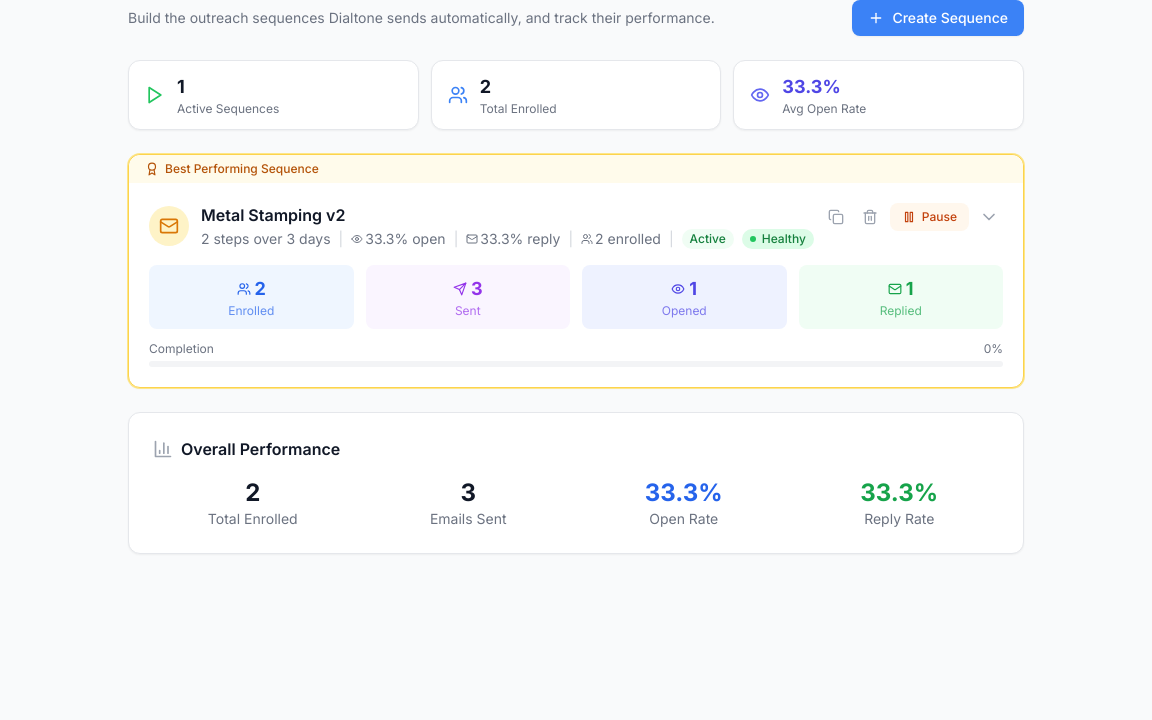
Test: Sequence analytics section › shows an empty funnel note when nothing has sent
Click the heading "Metal Stamping v2".
click(273, 215)  # box [201,205,345,225]
(page scrolled)
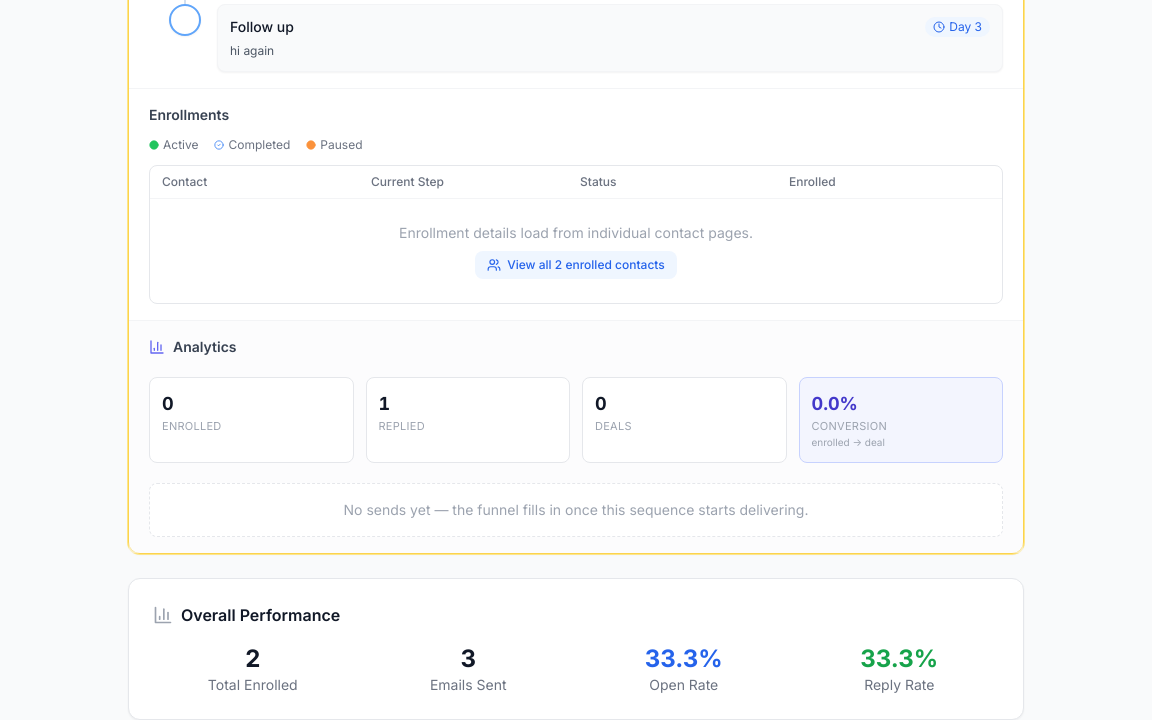
Expected: the text "No sends yet" is shown, [344,500,808,518]
